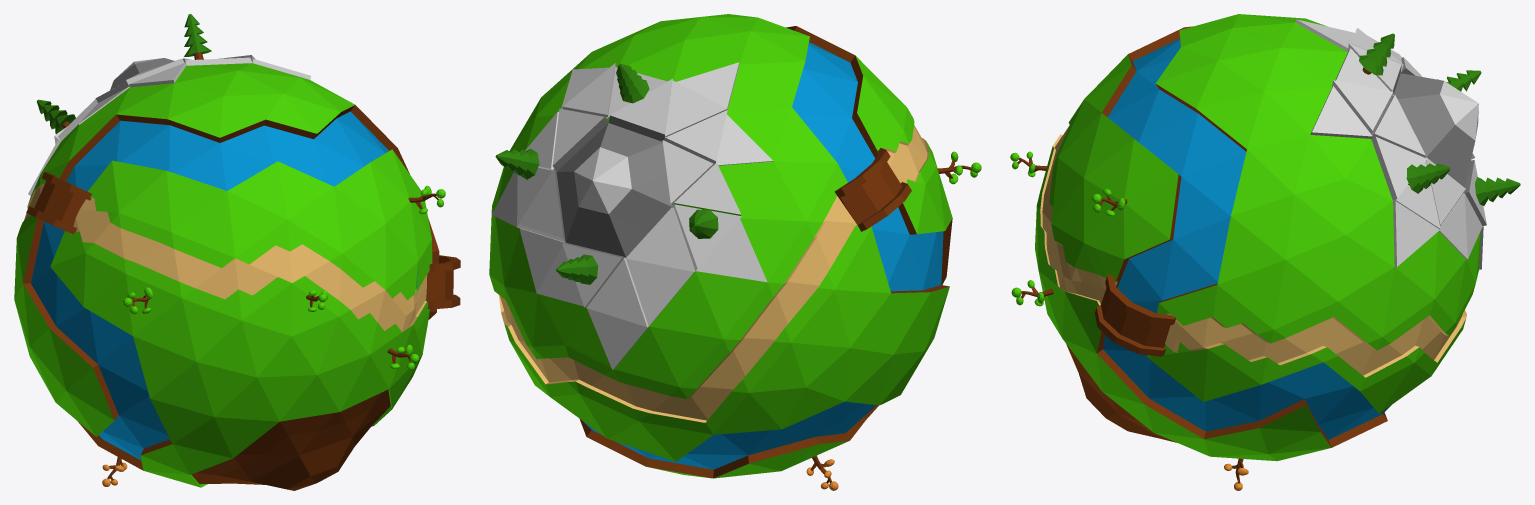
The model's file is worldV5.fbx.
3 renders of one model, left to right at view 1: azimuth 30°, elevation 25°; view 2: azimuth 150°, elevation 25°; view 3: azimuth 270°, elevation 25°, orthographic. The views are drawn at different scales.
Parts seen in each view (by area): view 1: Icosphere; view 2: Icosphere; view 3: Icosphere.
Boxes of the visible parts, x1,y1,x2,y2 form: Icosphere: (14,14,460,490); Icosphere: (489,14,981,490); Icosphere: (1010,14,1520,490).
Size of the model in its own units: 729 by 797 by 830.
